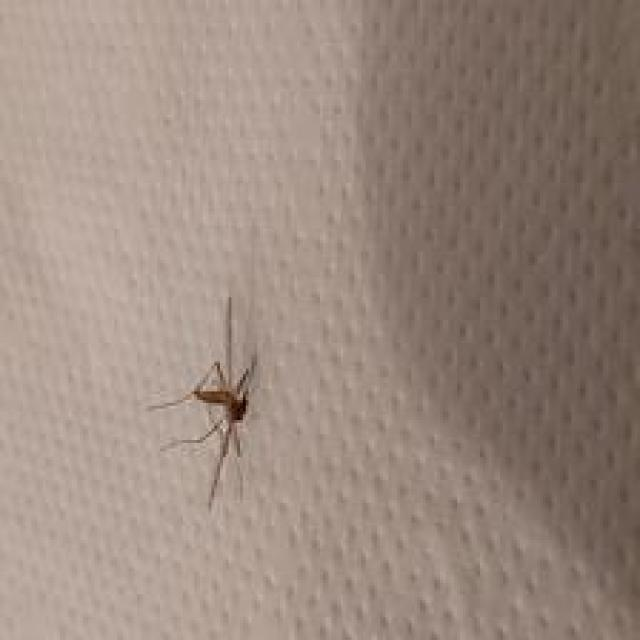Culex: (146, 296, 260, 510)
